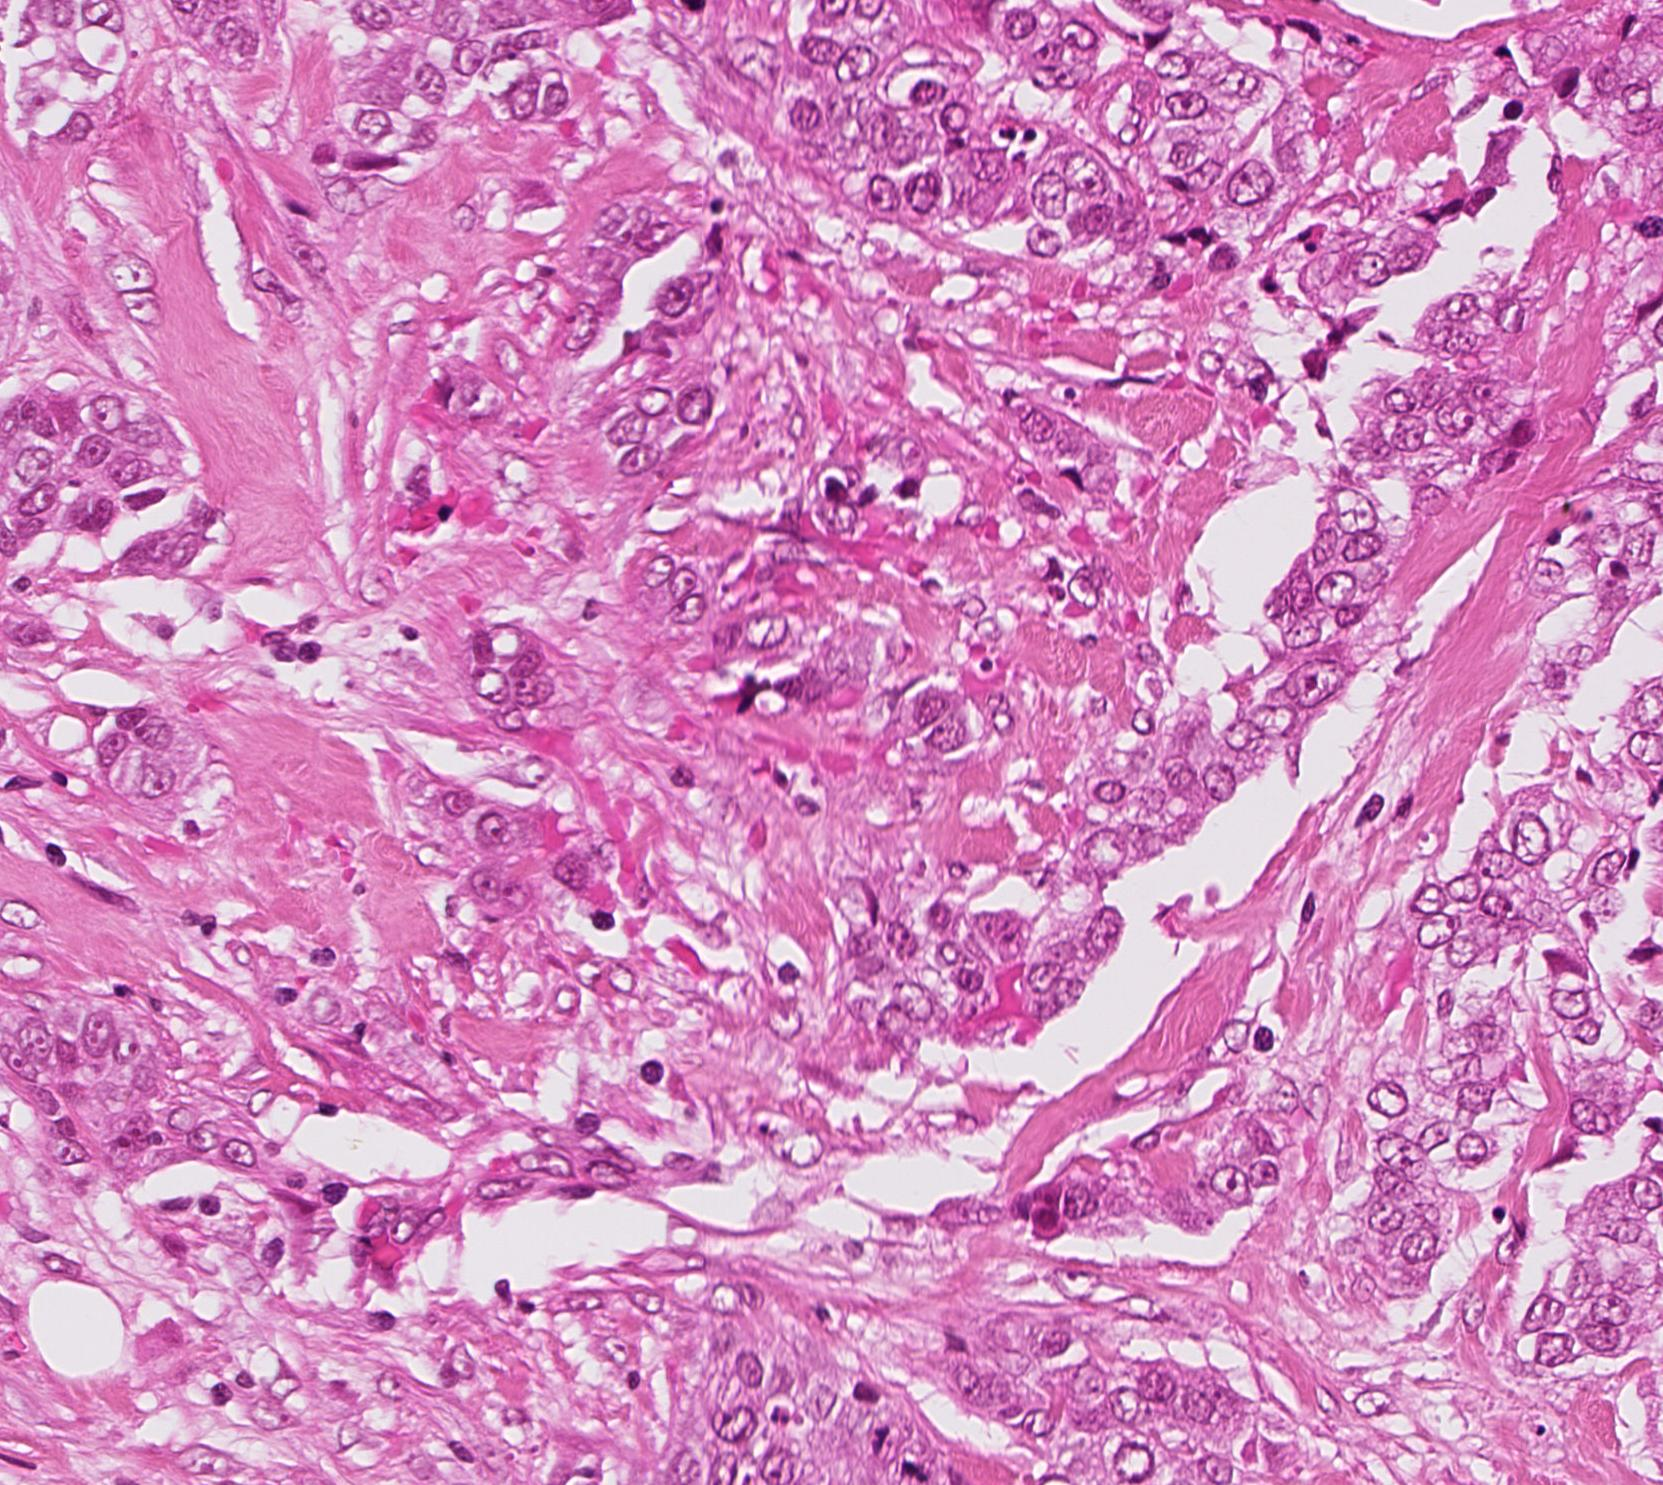mitosis: (866, 1422, 926, 1482)
